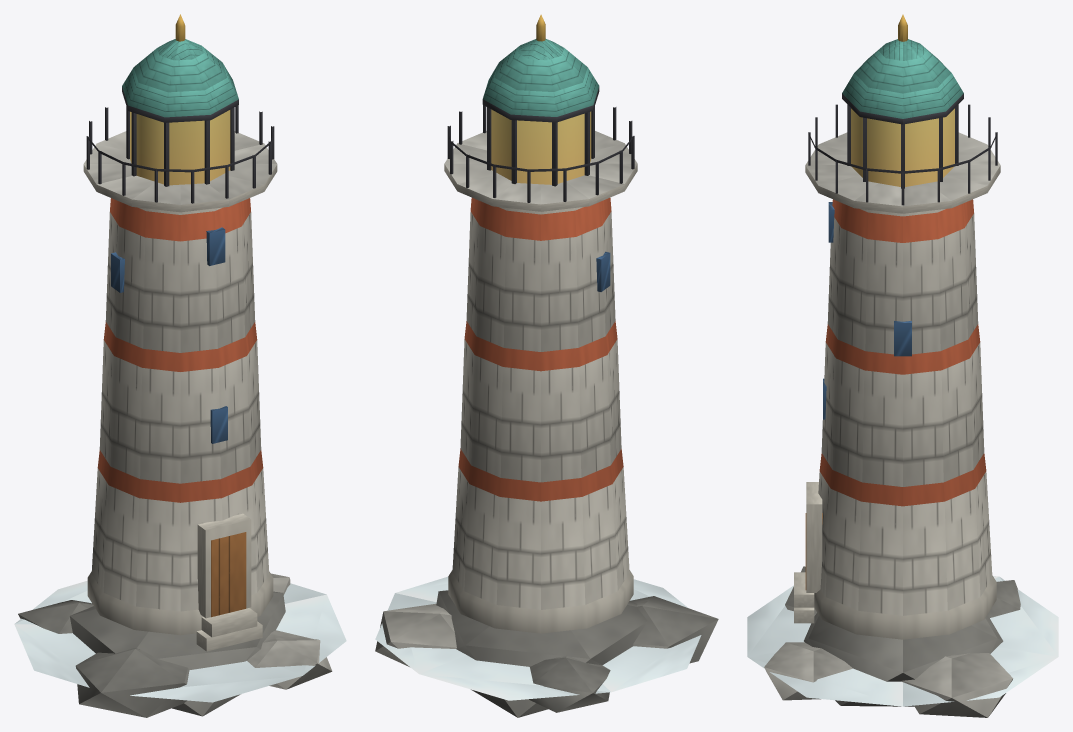
Rendered from bld_lighthouse_01.glb.
3 views of the same model, side by side, from view 1: azimuth 30°, elevation 25°; view 2: azimuth 150°, elevation 25°; view 3: azimuth 270°, elevation 25° (orthographic).
Visible parts, largest first — view 1: bld_lighthouse_01; view 2: bld_lighthouse_01; view 3: bld_lighthouse_01.
Boxes of the visible parts, x1=… form: bld_lighthouse_01: x1=14, y1=14, x2=346, y2=717; bld_lighthouse_01: x1=375, y1=14, x2=718, y2=717; bld_lighthouse_01: x1=747, y1=14, x2=1058, y2=717.
Bounding box in the file's own units: 8.37 × 18.34 × 7.66.
Materials: 1 (1 with a texture image).
